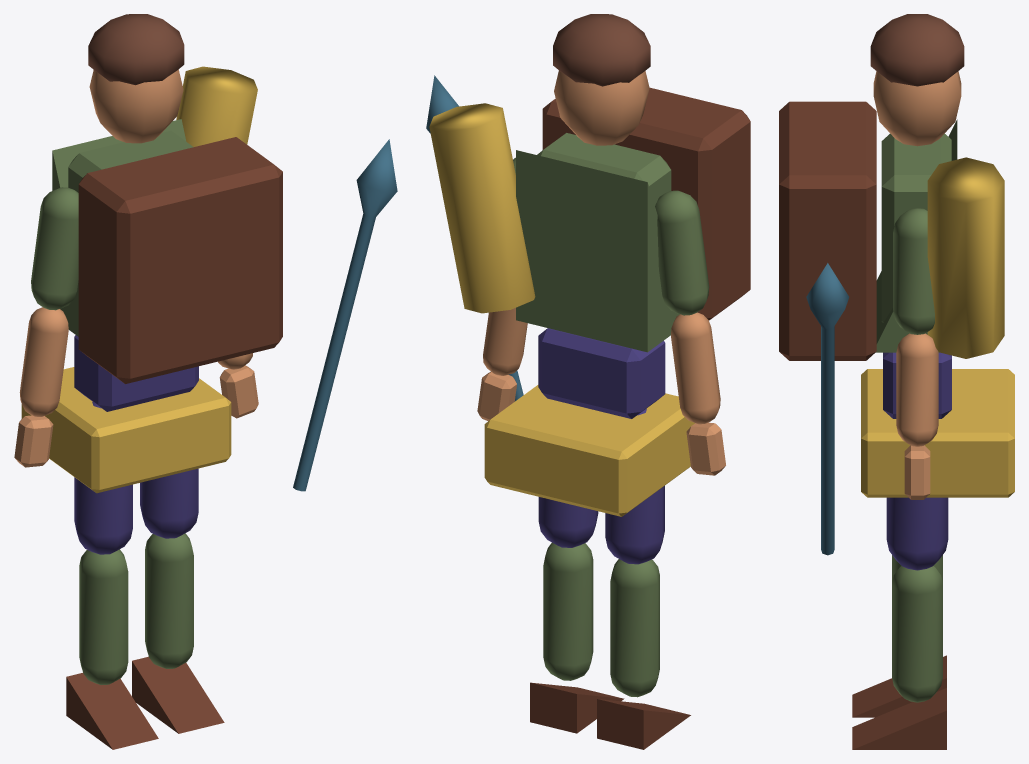
The model's file is adventurer.rustic.glb.
The picture shows the model from 3 angles, left to right: view 1: azimuth 30°, elevation 25°; view 2: azimuth 150°, elevation 25°; view 3: azimuth 270°, elevation 25°; orthographic projection.
Visible parts, largest first — view 1: accessory.body, accessory.waist, shin.left, shin.right, accessory.main-hand, hair, accessory.back, upper-arm.left, head, foot.left, foot.right, forearm.left (+7 smaller); view 2: tunic, accessory.waist, accessory.body, accessory.back, pelvis, shin.right, shin.left, hair, upper-arm.left, head, forearm.left, torso (+8 smaller); view 3: accessory.body, accessory.back, accessory.waist, shin.right, hair, torso, accessory.main-hand, head, upper-arm.right, forearm.right, thigh.right, foot.right (+4 smaller).
Boxes of the visible parts, x1=… form: accessory.body: x1=78, y1=137, x2=282, y2=383; accessory.waist: x1=21, y1=367, x2=231, y2=493; shin.left: x1=79, y1=549, x2=128, y2=684; shin.right: x1=145, y1=533, x2=193, y2=668; accessory.main-hand: x1=293, y1=139, x2=397, y2=491; hair: x1=88, y1=14, x2=184, y2=85; accessory.back: x1=176, y1=66, x2=257, y2=146; upper-arm.left: x1=31, y1=187, x2=78, y2=310; head: x1=89, y1=69, x2=183, y2=143; foot.left: x1=66, y1=673, x2=158, y2=749; foot.right: x1=132, y1=656, x2=224, y2=733; forearm.left: x1=19, y1=307, x2=68, y2=416; tunic: x1=516, y1=150, x2=679, y2=352; accessory.waist: x1=484, y1=385, x2=694, y2=516; accessory.body: x1=542, y1=87, x2=750, y2=320; accessory.back: x1=429, y1=103, x2=535, y2=313; pelvis: x1=538, y1=328, x2=665, y2=418; shin.right: x1=543, y1=542, x2=593, y2=680; shin.left: x1=610, y1=559, x2=659, y2=697; hair: x1=553, y1=14, x2=650, y2=86; upper-arm.left: x1=655, y1=190, x2=709, y2=315; head: x1=554, y1=70, x2=649, y2=145; forearm.left: x1=671, y1=312, x2=720, y2=424; torso: x1=537, y1=133, x2=671, y2=205; accessory.body: x1=779, y1=101, x2=876, y2=360; accessory.back: x1=927, y1=157, x2=1004, y2=358; accessory.waist: x1=861, y1=369, x2=1014, y2=497; shin.right: x1=892, y1=566, x2=942, y2=702; hair: x1=870, y1=14, x2=964, y2=86; torso: x1=881, y1=133, x2=951, y2=322; accessory.main-hand: x1=806, y1=263, x2=849, y2=555; head: x1=873, y1=71, x2=961, y2=146; upper-arm.right: x1=893, y1=208, x2=934, y2=334; forearm.right: x1=896, y1=333, x2=938, y2=446; thigh.right: x1=886, y1=497, x2=948, y2=570; foot.right: x1=852, y1=688, x2=946, y2=749.
Bounding box in the file's own units: 1.53 × 3.03 × 0.92.
